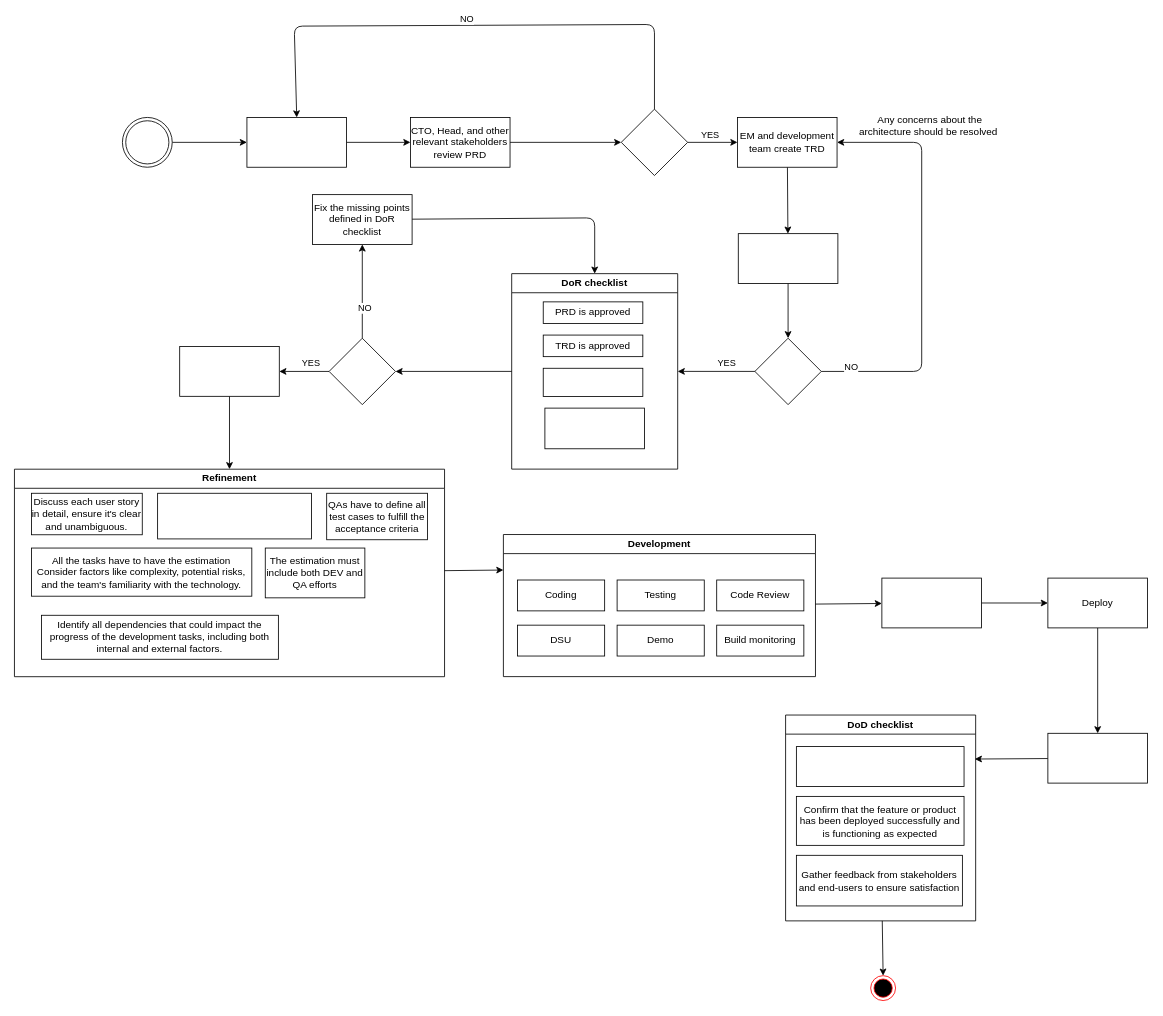
Image size: 1163x1016. Some labels were removed from this diagram. The centre of each missing label's shape, as x and y in pixels:
"Acceptance criteria are clear and agreed upon the team" goes at (594,428).
"Add the User Story to development team product backlog" goes at (229,371).
"All stakeholders are aligned on the goals" goes at (592,381).
"DoR is met?" goes at (361,371).
"Ensure all acceptance criteria have been met." goes at (880,766).
"PM prepares PRD with high level goals, scopes" goes at (296,142).
"Post-Deployment Monitoring" goes at (1097,757).
"PRD is aproved?" goes at (654,142).
"Pre-Deployment review by EM, CTO, or Head" goes at (931,602).
"Split the User Story to smaller, manageable technical tasks" goes at (234,515).
"TRD is approved?" goes at (787,371).
"TRD is reviewed by Head, CTO, and other technical leaders" goes at (787,258).
